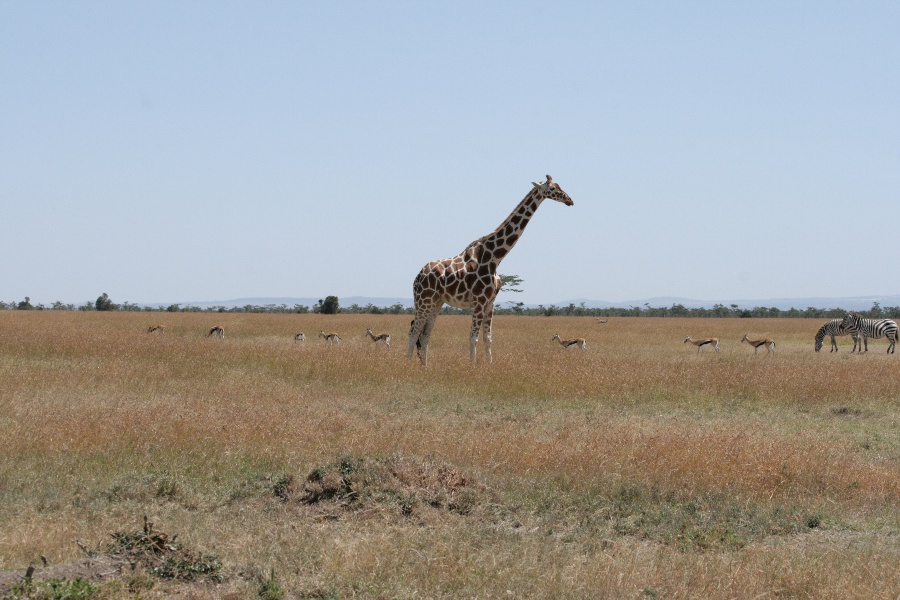giraffe: (393, 168, 580, 373)
